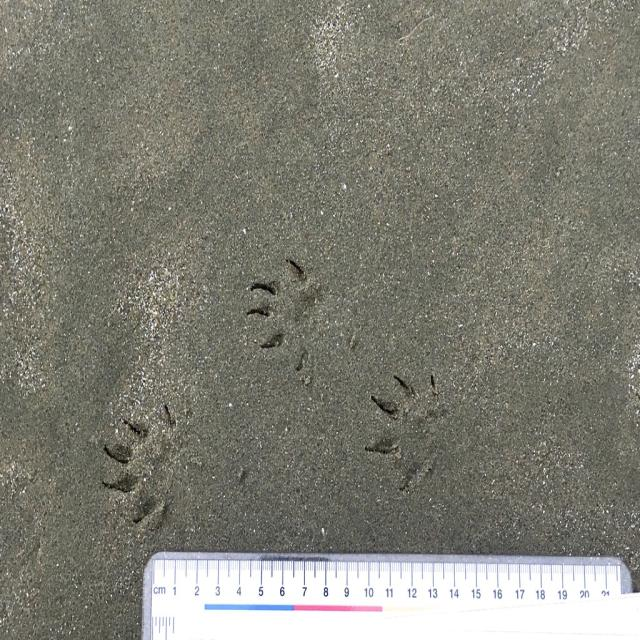mustelid: (105, 403, 202, 524), (368, 370, 459, 492), (254, 258, 343, 373)
